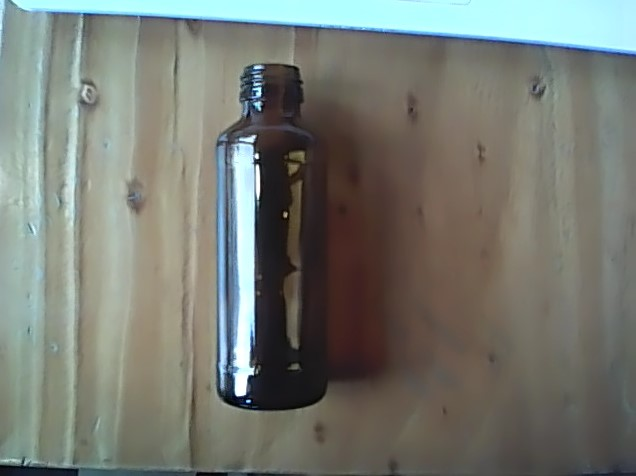Glass: (212, 58, 330, 413)
